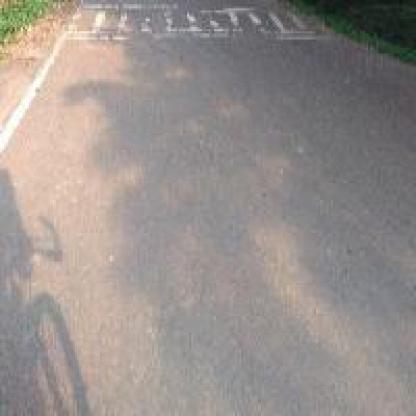Speed Bump: (56, 0, 343, 46)
